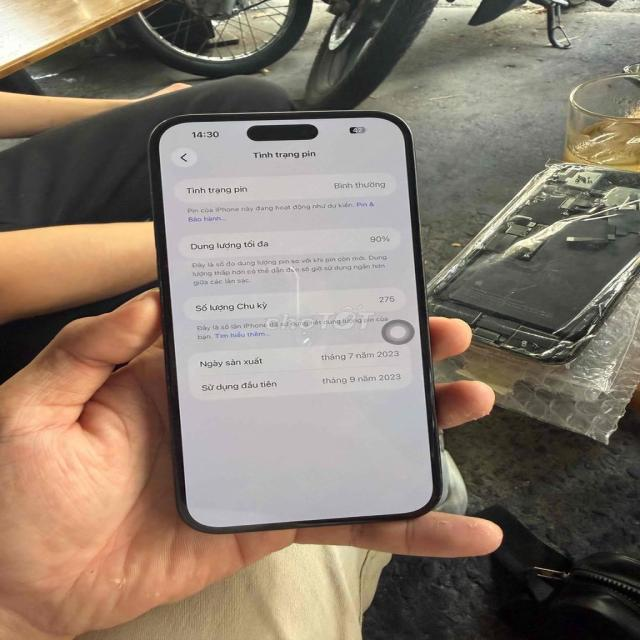scratch: (415, 272, 448, 436)
